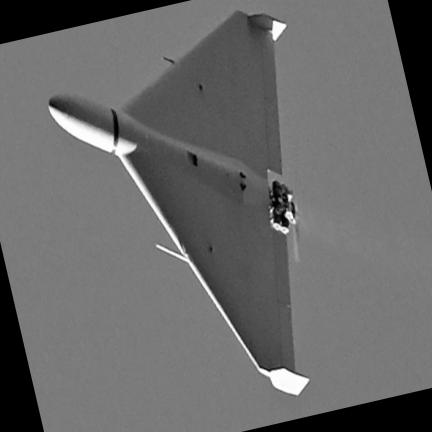Shahed: (48, 11, 307, 395)
